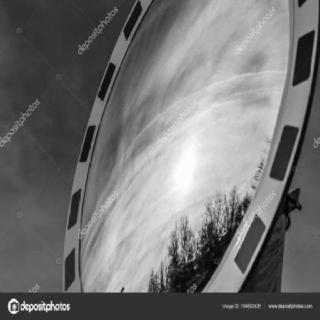other: (151, 116, 223, 224)
